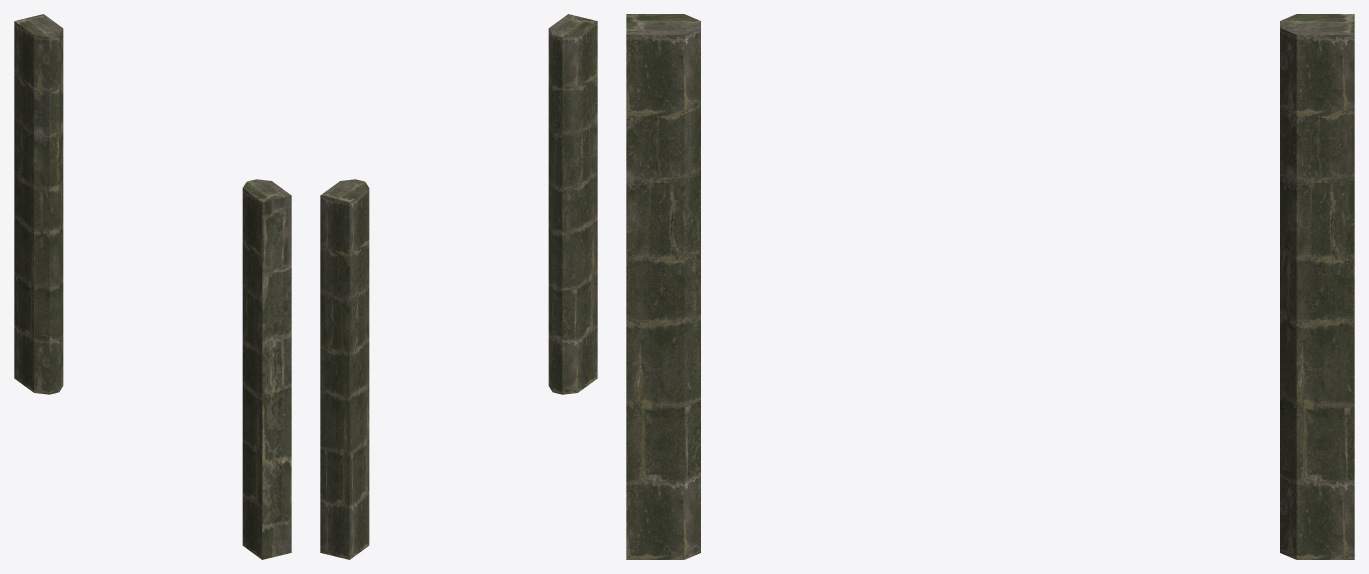
The model's file is Wall_DoubleArchway_Pier.fbx.
The picture shows the model from 3 angles, left to right: view 1: azimuth 30°, elevation 25°; view 2: azimuth 150°, elevation 25°; view 3: azimuth 270°, elevation 25°; orthographic projection. The views are drawn at different scales.
Visible parts, largest first — view 1: DoubleDoorway.007; view 2: DoubleDoorway.007; view 3: DoubleDoorway.007.
Part boxes in pixels (left/top/right/bottom): DoubleDoorway.007: left=14, top=14, right=291, bottom=559; DoubleDoorway.007: left=320, top=14, right=597, bottom=559; DoubleDoorway.007: left=626, top=14, right=1354, bottom=559.
Bounding box in the file's own units: 51 × 595 × 748.
